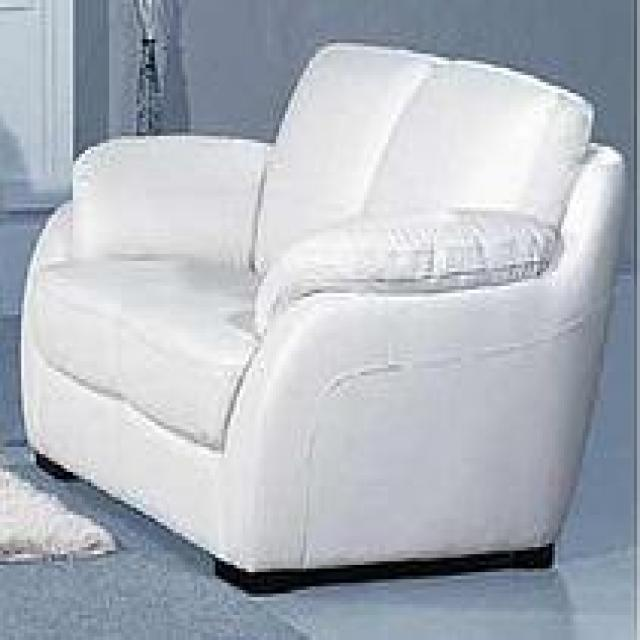sofa: (20, 38, 628, 596)
